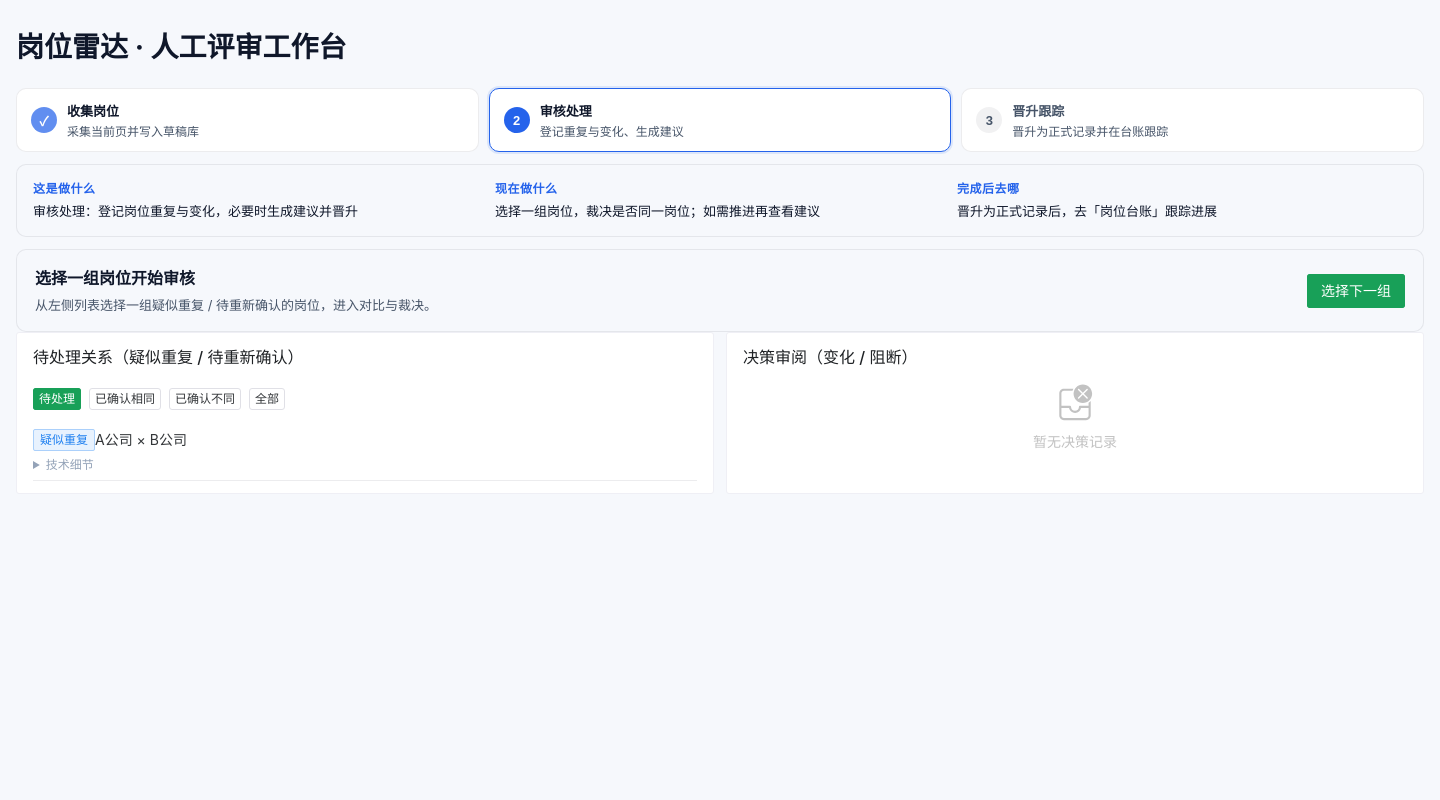
it: RadarReviewPage 候选对比 + 变化 + 证据 › 选中关系展示结构化 signals 列表（含字段/双方值/说明）
The width and height of the screenshot is (1440, 800).
Click the button with test id "relation-rel-1" at coordinates (110, 440), box [33, 429, 187, 451]
(page scrolled)
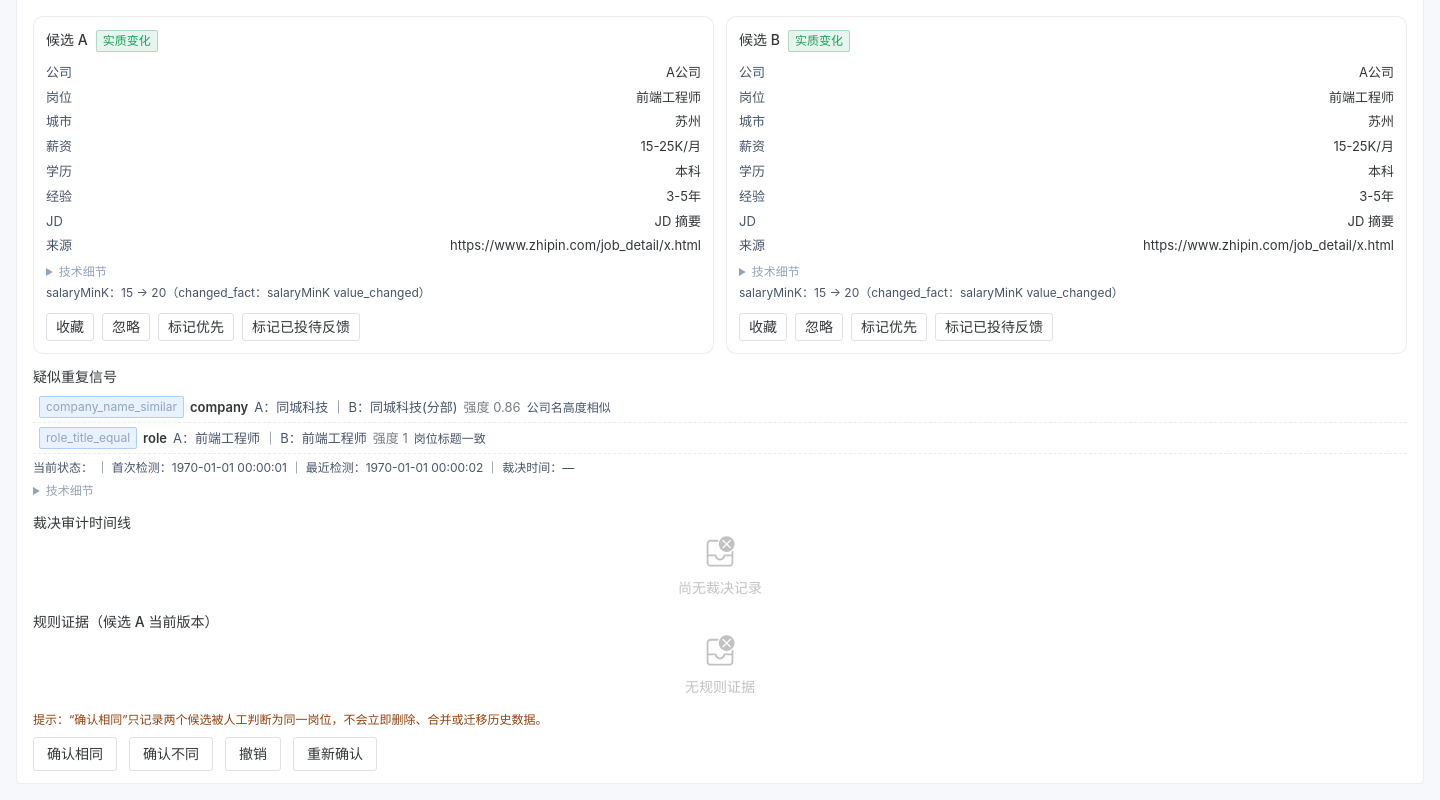
Now the list with test id "signals-list" is shown, box [33, 392, 1407, 454]
Now the list item with test id "signal-company_name_similar" is shown, box [33, 392, 1407, 423]
Now the list item with test id "signal-company_name_similar" shows "company", box [190, 399, 248, 415]
